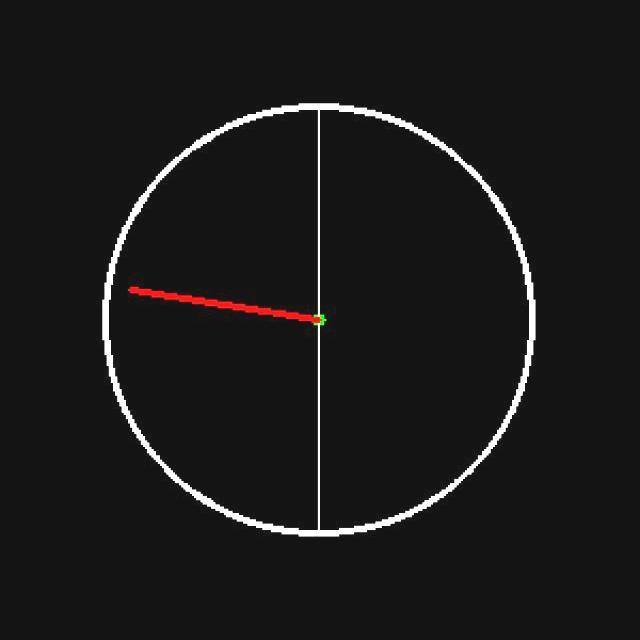Needle_Tip: (110, 273, 156, 314)
Needle_base: (280, 283, 342, 356)
